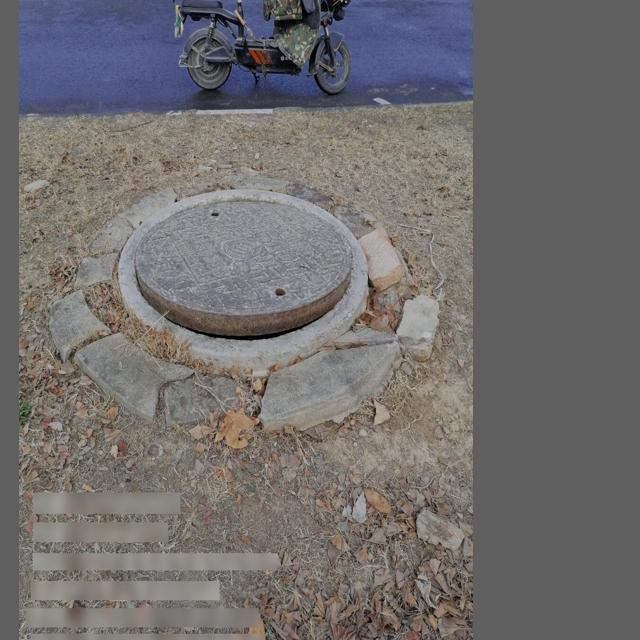uncovered: (117, 185, 367, 369)
